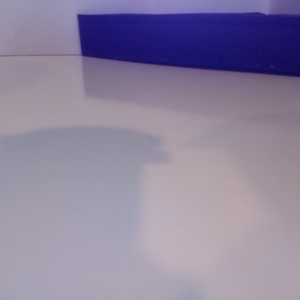zone: (79, 12, 300, 77)
